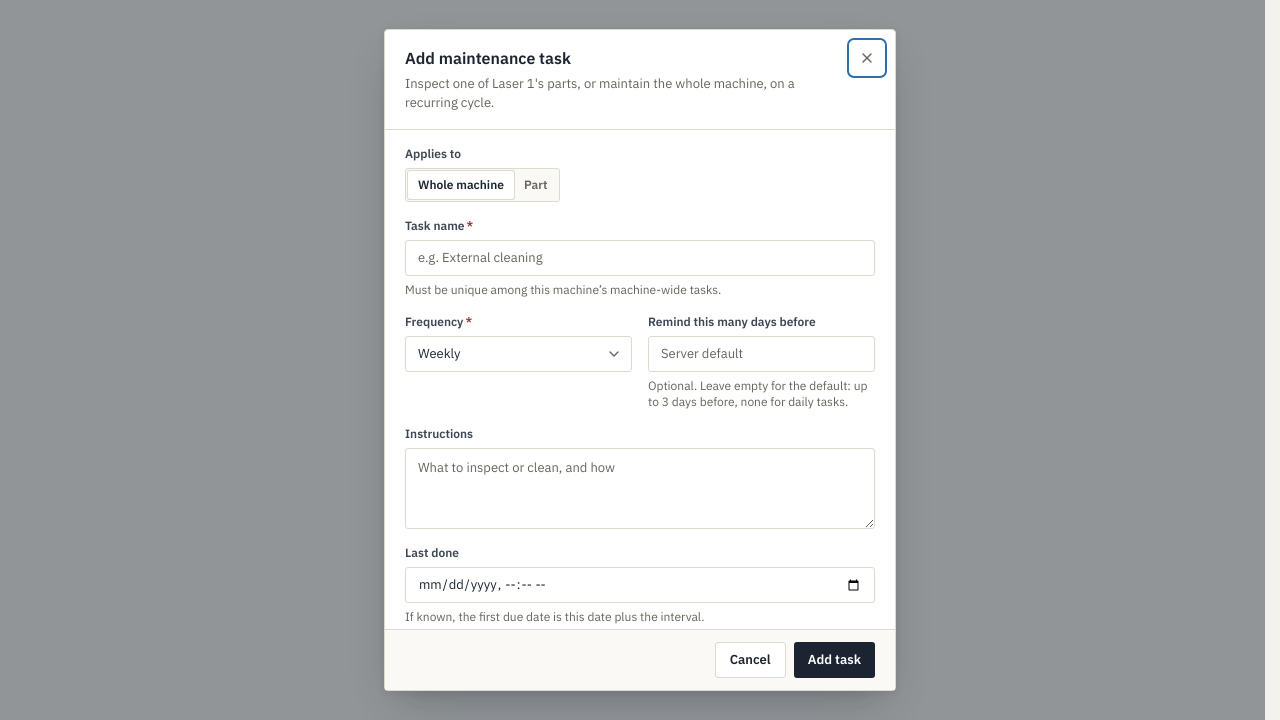
Scenario: Maintenance task form › part › requires a part and leaves the name optional
Click the radio button labelled "Part".
click(536, 185)  # box top-left (514, 171), bottom-right (557, 199)
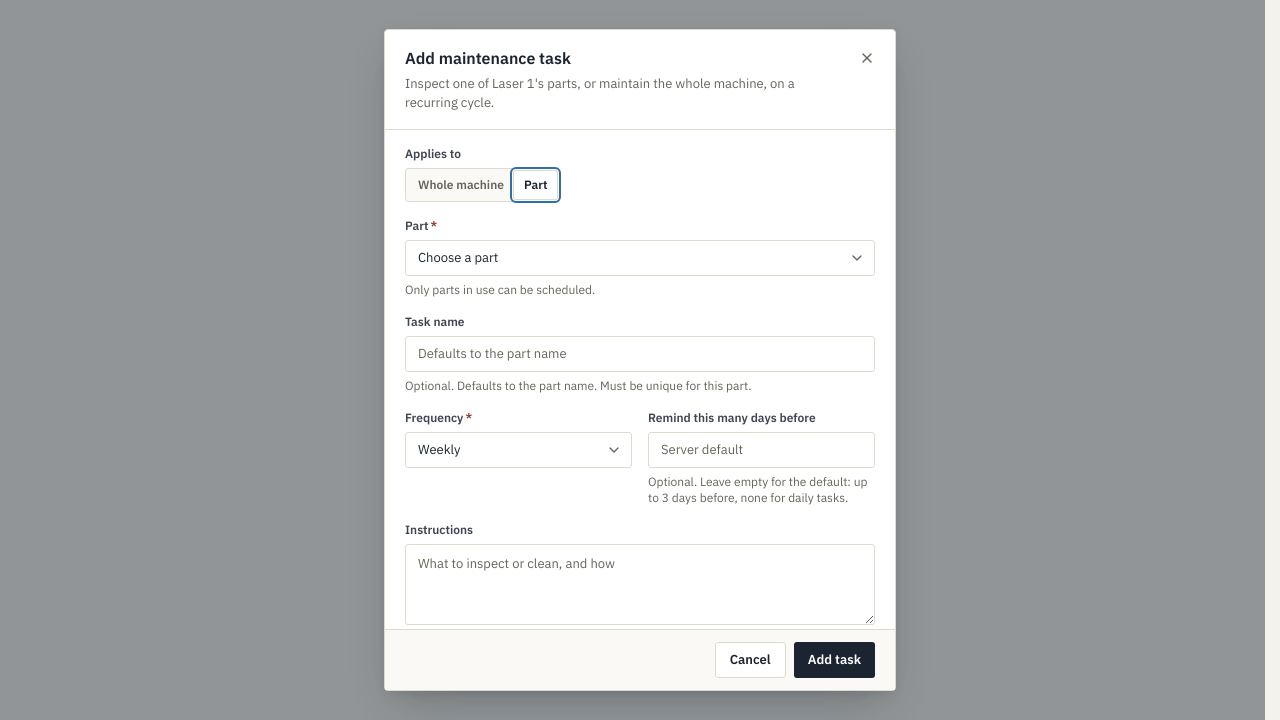
Click the button "Add task".
click(834, 660)  # box top-left (794, 642), bottom-right (875, 678)
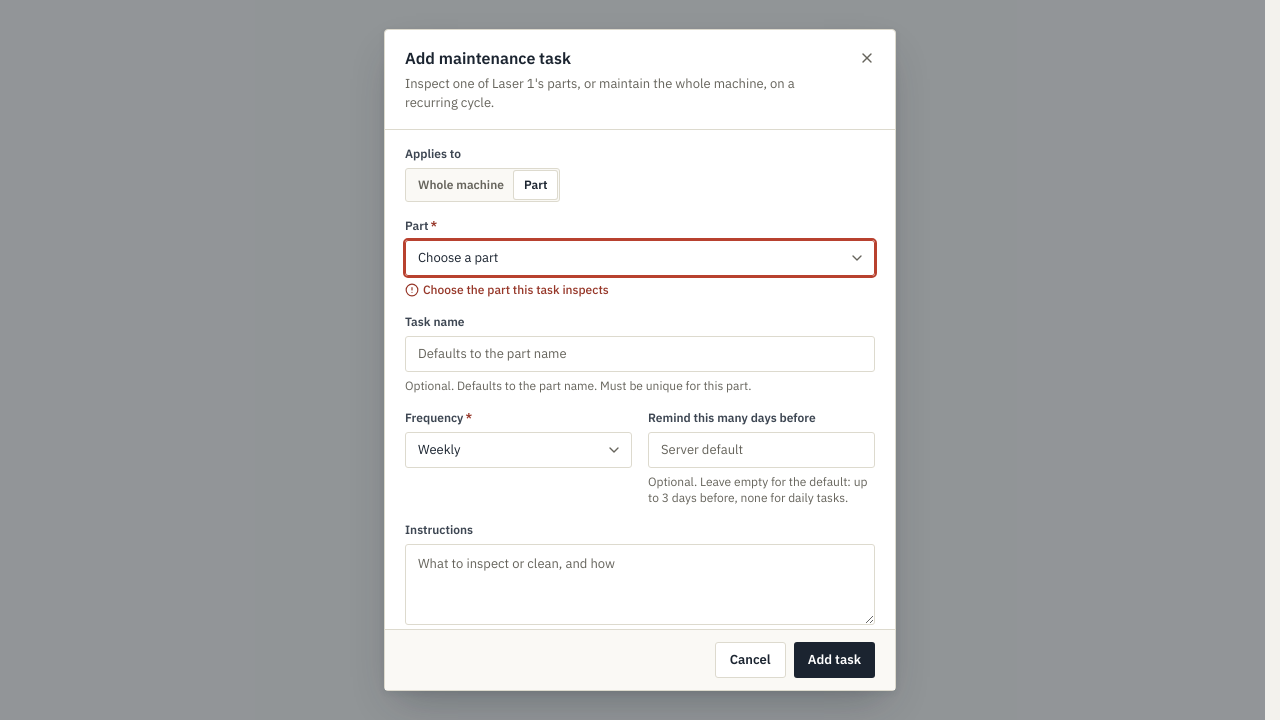
Expected: the text "Choose the part this task inspects" is shown, top-left (423, 282), bottom-right (609, 298)
